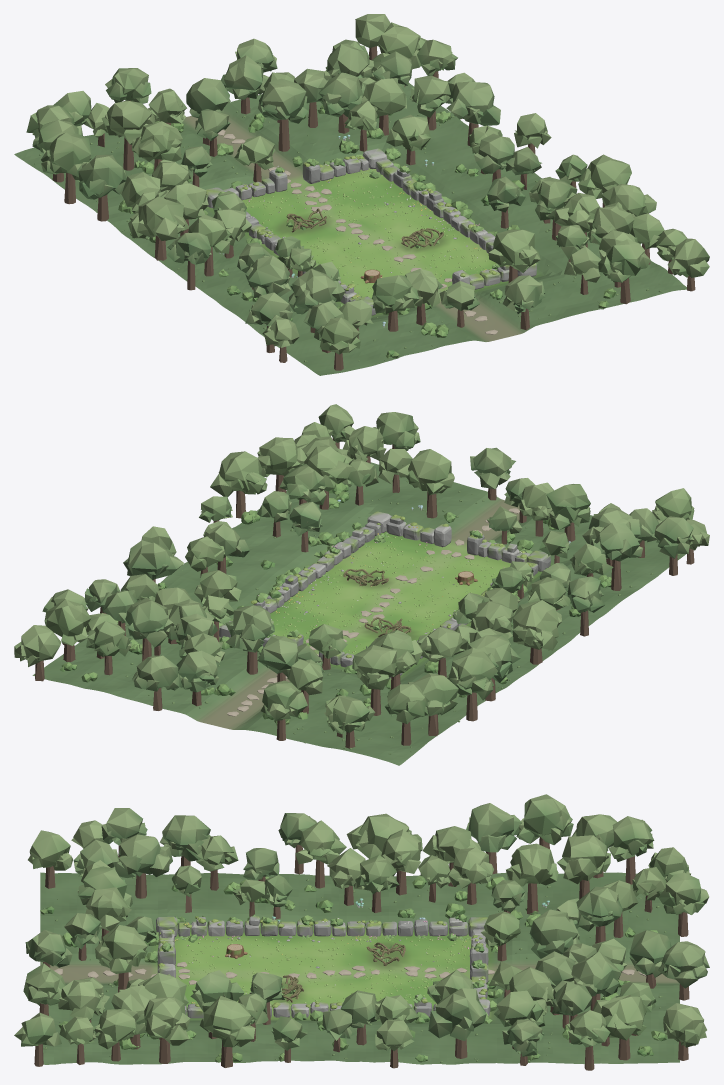
File: mossy_glade_thorns_roblox.glb
3 renders of one model, top to bottom at view 1: azimuth 30°, elevation 25°; view 2: azimuth 150°, elevation 25°; view 3: azimuth 270°, elevation 25°, orthographic. The views are drawn at different scales.
Visible parts, largest first — view 1: Trees, Ground, Walls, Bushes, Grass, Thorns; view 2: Trees, Ground, Walls, Bushes, Grass, Thorns; view 3: Trees, Ground, Walls, Bushes, Grass, Thorns.
Part boxes in pixels (x1,y1,x2,y2): Trees: (26, 14, 709, 370); Ground: (14, 83, 686, 375); Walls: (205, 148, 536, 315); Bushes: (118, 104, 616, 358); Grass: (34, 103, 662, 362); Thorns: (286, 208, 443, 248); Trees: (14, 404, 709, 748); Ground: (32, 462, 685, 765); Walls: (219, 511, 550, 678); Bushes: (60, 480, 611, 725); Grass: (118, 481, 680, 754); Thorns: (343, 569, 411, 636); Trees: (14, 794, 709, 1070); Ground: (40, 872, 679, 1064); Walls: (156, 916, 490, 1018); Bushes: (40, 876, 667, 1062); Grass: (43, 874, 666, 1062); Thorns: (281, 942, 405, 1002).
Size of the model in its own units: 34.84 by 5.91 by 46.79.
